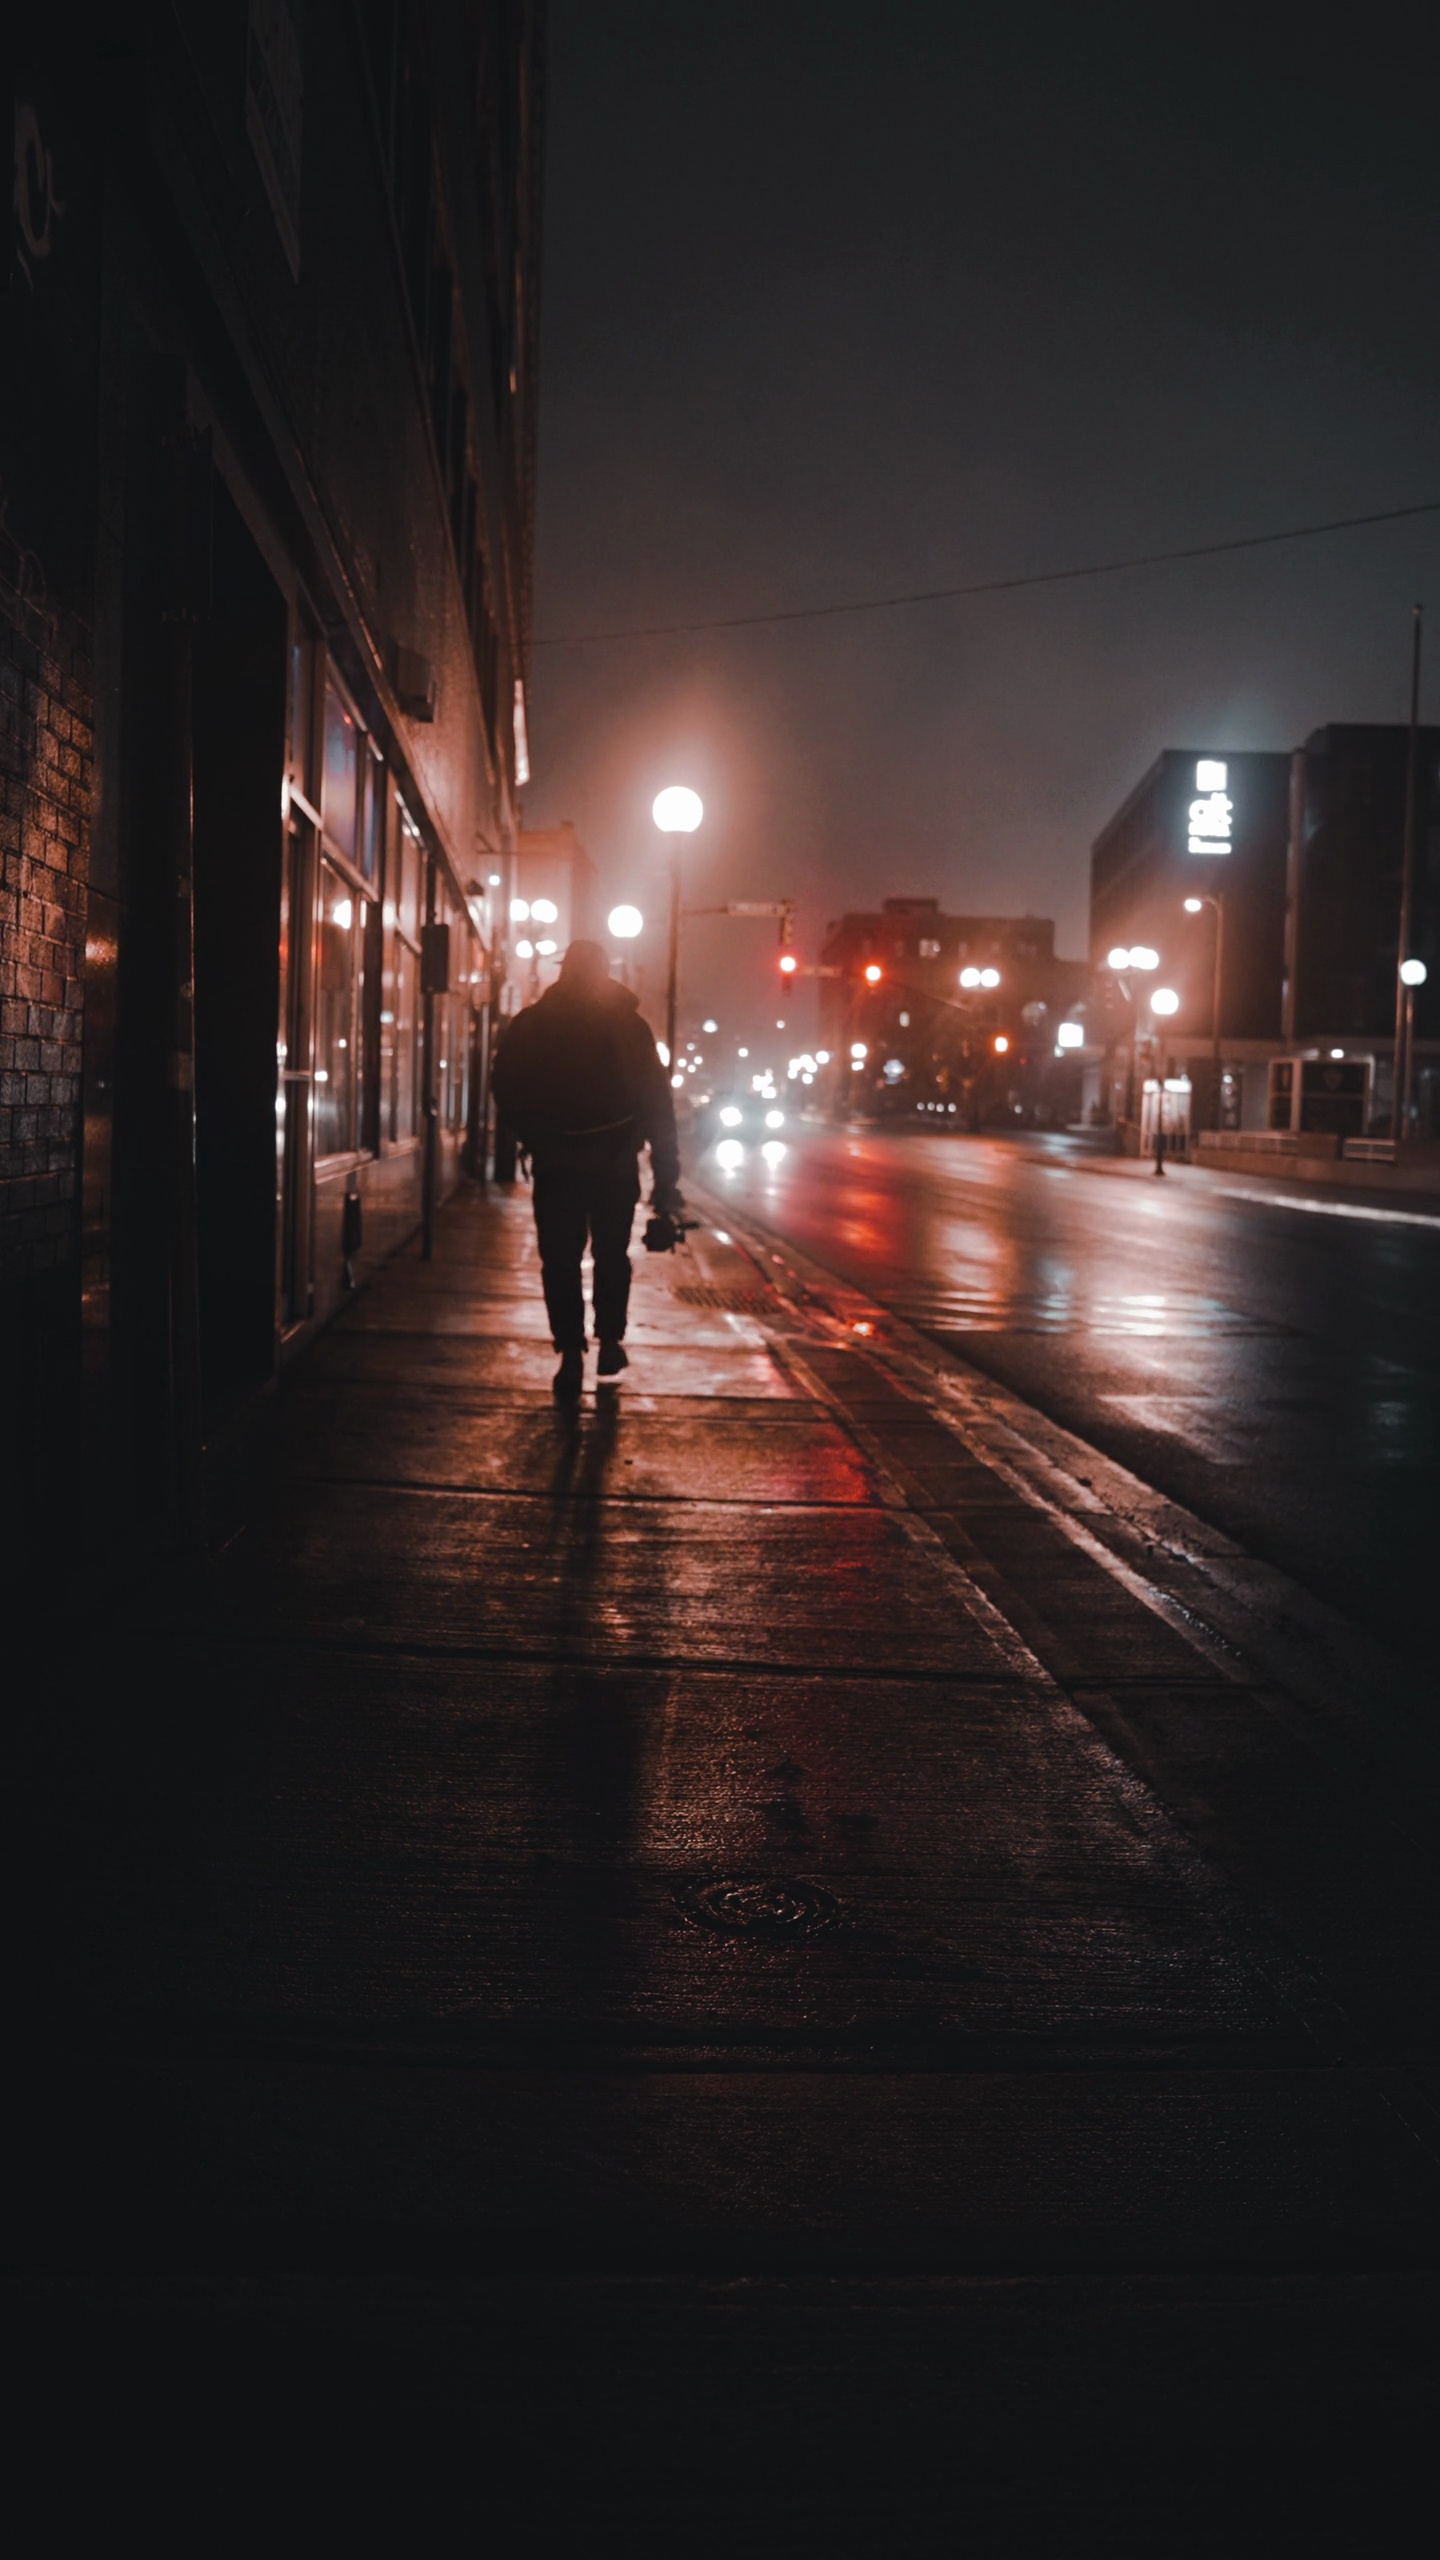person: (492, 954, 706, 1381)
